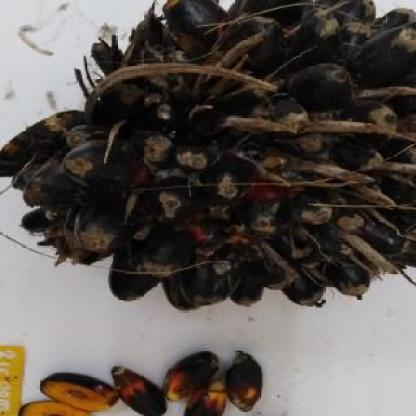Unripe: (0, 0, 416, 309)
